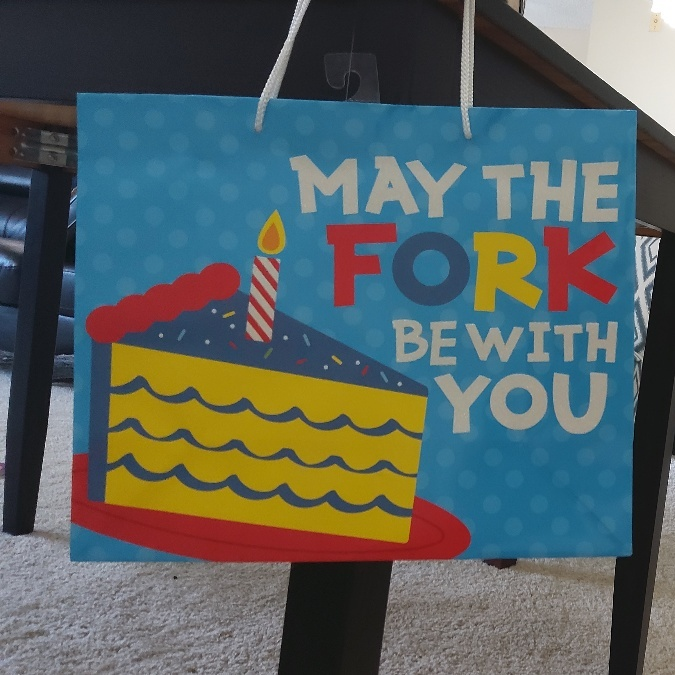paper_bag: (80, 103, 626, 539)
